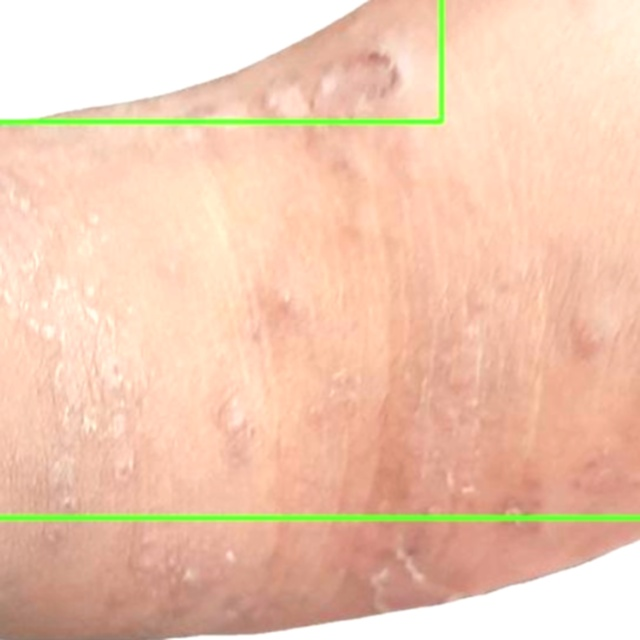Eczema: (0, 0, 441, 123)
